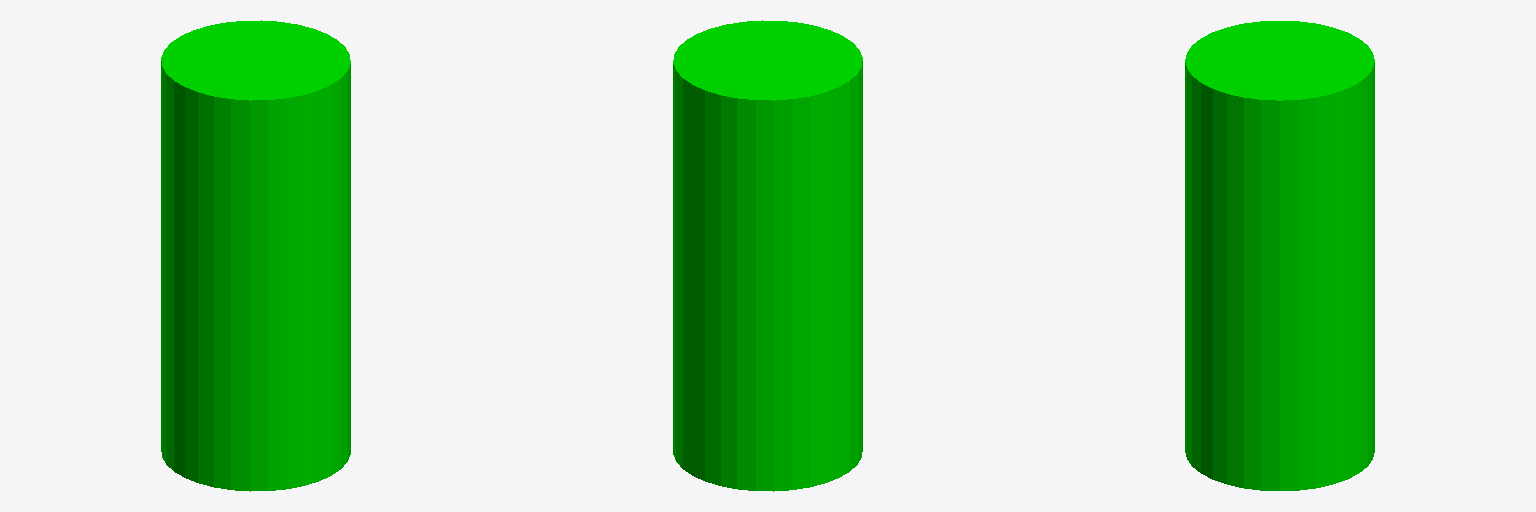
The robot description file, URDF, robot "goal":
<?xml version="1.0"?> 
<robot name="goal">
    <!-- Colors --> 
    <material name="green">
        <color rgba="0 0.925 0 1"/>
    </material>

    <!-- Goal -->
    <link name="base_link">
        <visual>
            <geometry>
                <cylinder radius="0.055" length="0.25"/>
                <origin rpy="0 0 0" xyz="0 0 0.125"/>
            </geometry>
            <material name="green"/>
        </visual>
<collision> 
             <geometry> 
                <cylinder radius="0.065" length="0.125"/>
                <origin rpy="0 0 0" xyz="0 0 0.065"/>
            </geometry>
        </collision> 
        <inertial> 
            <mass value="0"/>
            <inertia ixx="0" ixy="0" ixz="0" iyy="0" iyz="0" izz="0"/>
        </inertial> 
    </link>
</robot>

--- What the picture shows (computed from the rendered views, not written in the file) ---
The picture shows the robot from 3 angles, left to right: view 1: azimuth 30°, elevation 25°; view 2: azimuth 150°, elevation 25°; view 3: azimuth 270°, elevation 25°; orthographic projection.
Model goal with 1 links and 0 joints (none), rooted at base_link, posed every joint at zero.
Links seen in each view (by area): view 1: base_link; view 2: base_link; view 3: base_link.
Boxes of the visible links, x1,y1,x2,y2 form: base_link: (161, 20, 350, 491); base_link: (673, 20, 862, 491); base_link: (1185, 21, 1374, 490).
Bounding box of the posed robot: 0.11 × 0.11 × 0.25 m (x, y, z).
Geometry: primitives only (box / cylinder / sphere), no mesh files.
